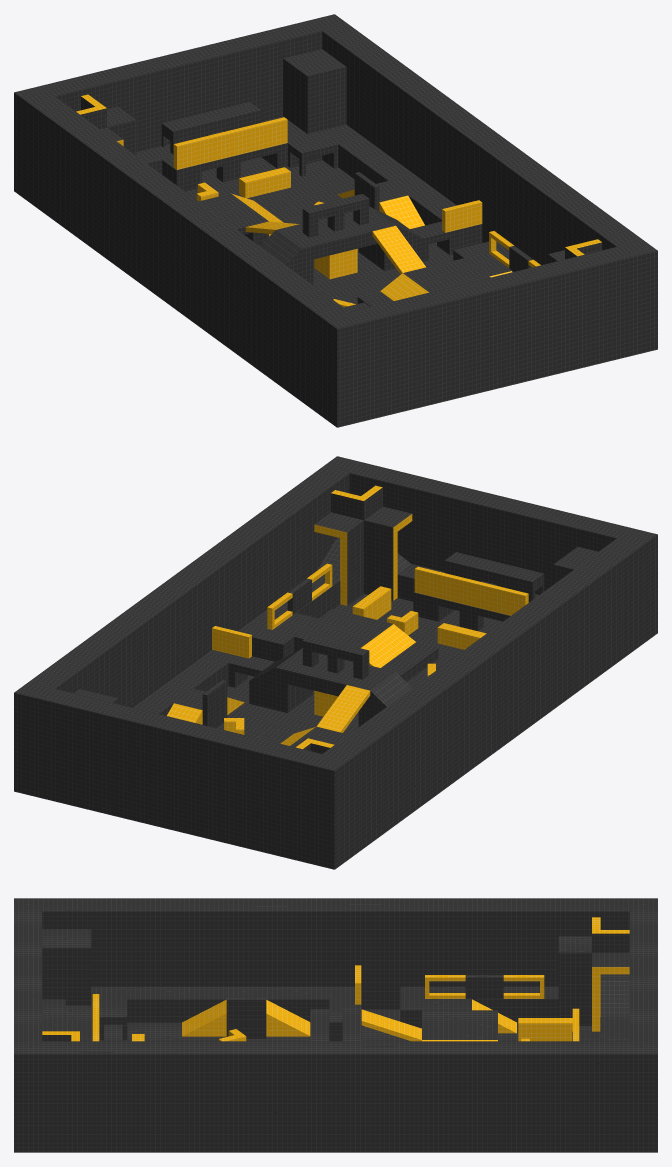
The model's file is block_arena2.fbx.
3 views of the same model, one above another, from view 1: azimuth 30°, elevation 25°; view 2: azimuth 150°, elevation 25°; view 3: azimuth 270°, elevation 25° (orthographic).
Visible parts, largest first — view 1: Plane.064, Cube.3690; view 2: Plane.064, Cube.3690; view 3: Plane.064, Cube.3690.
Boxes of the visible parts, x1=… form: Plane.064: x1=14, y1=14, x2=657, y2=427; Cube.3690: x1=76, y1=49, x2=602, y2=311; Plane.064: x1=14, y1=456, x2=657, y2=869; Cube.3690: x1=74, y1=485, x2=597, y2=753; Plane.064: x1=14, y1=898, x2=657, y2=1152; Cube.3690: x1=42, y1=917, x2=629, y2=1041.
Bounding box in the file's own units: 20145 × 5963 × 35158.
